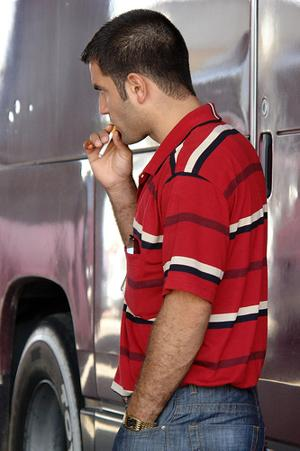person: (83, 9, 270, 449)
